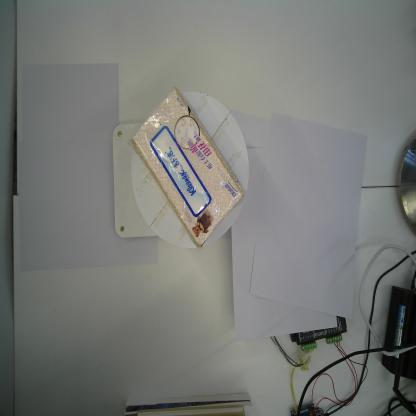Tissue: (130, 85, 245, 250)
